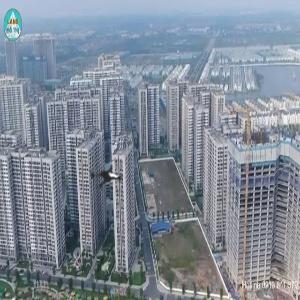drone: (70, 143, 144, 217)
